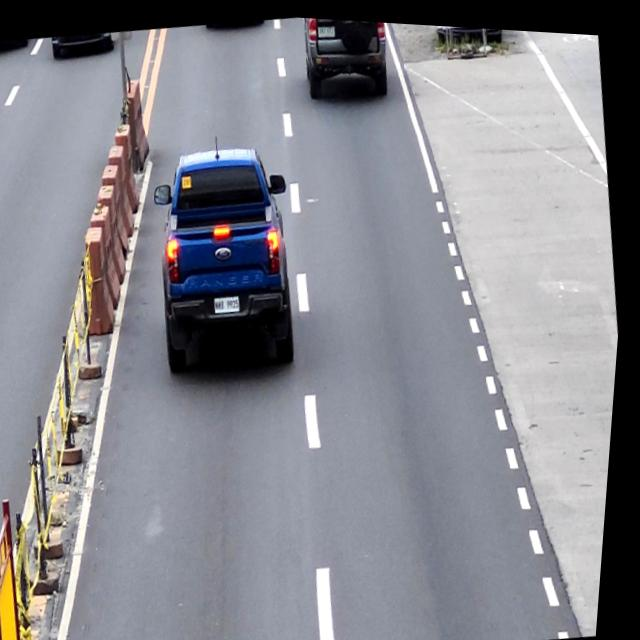Car: (143, 132, 313, 379)
License-Plate: (217, 289, 245, 314)
